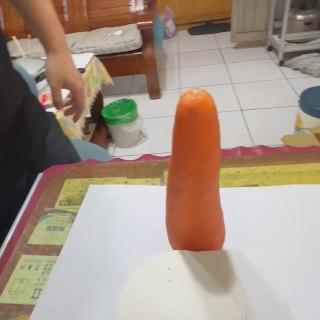carrot: (166, 87, 222, 254)
